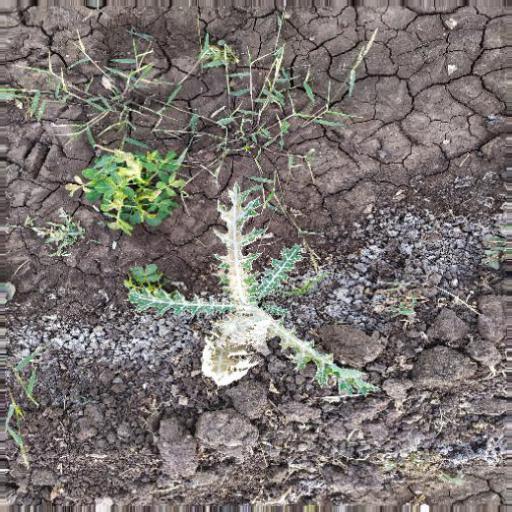weed: (125, 180, 381, 422), (58, 130, 189, 224)
